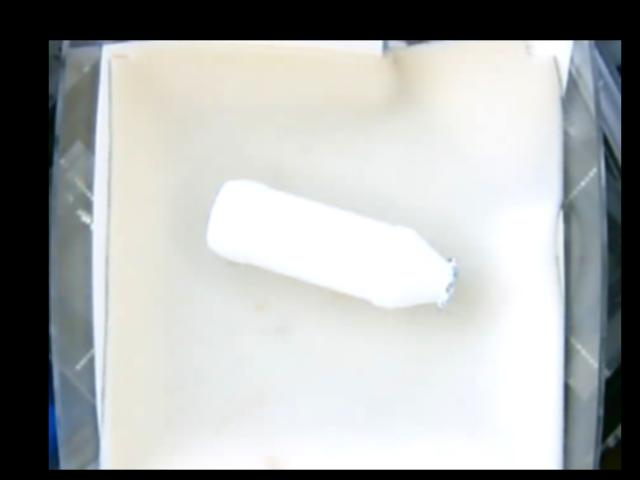Bottle: (207, 178, 457, 311)
